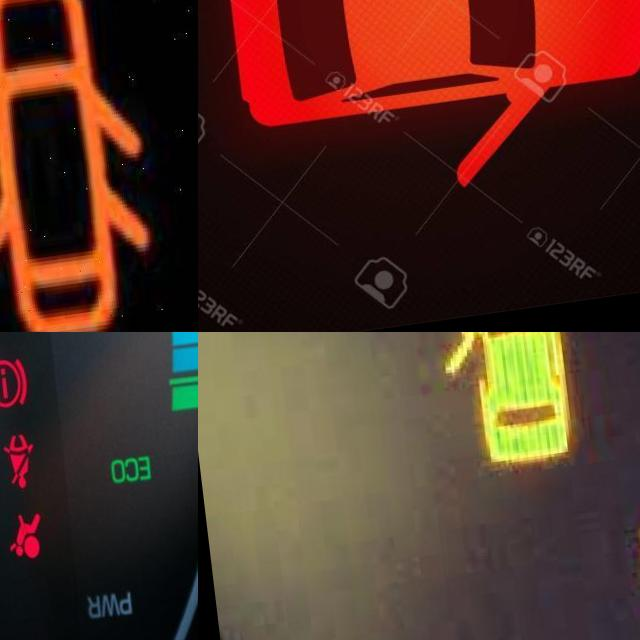Seat Belt: (0, 442, 28, 500)
